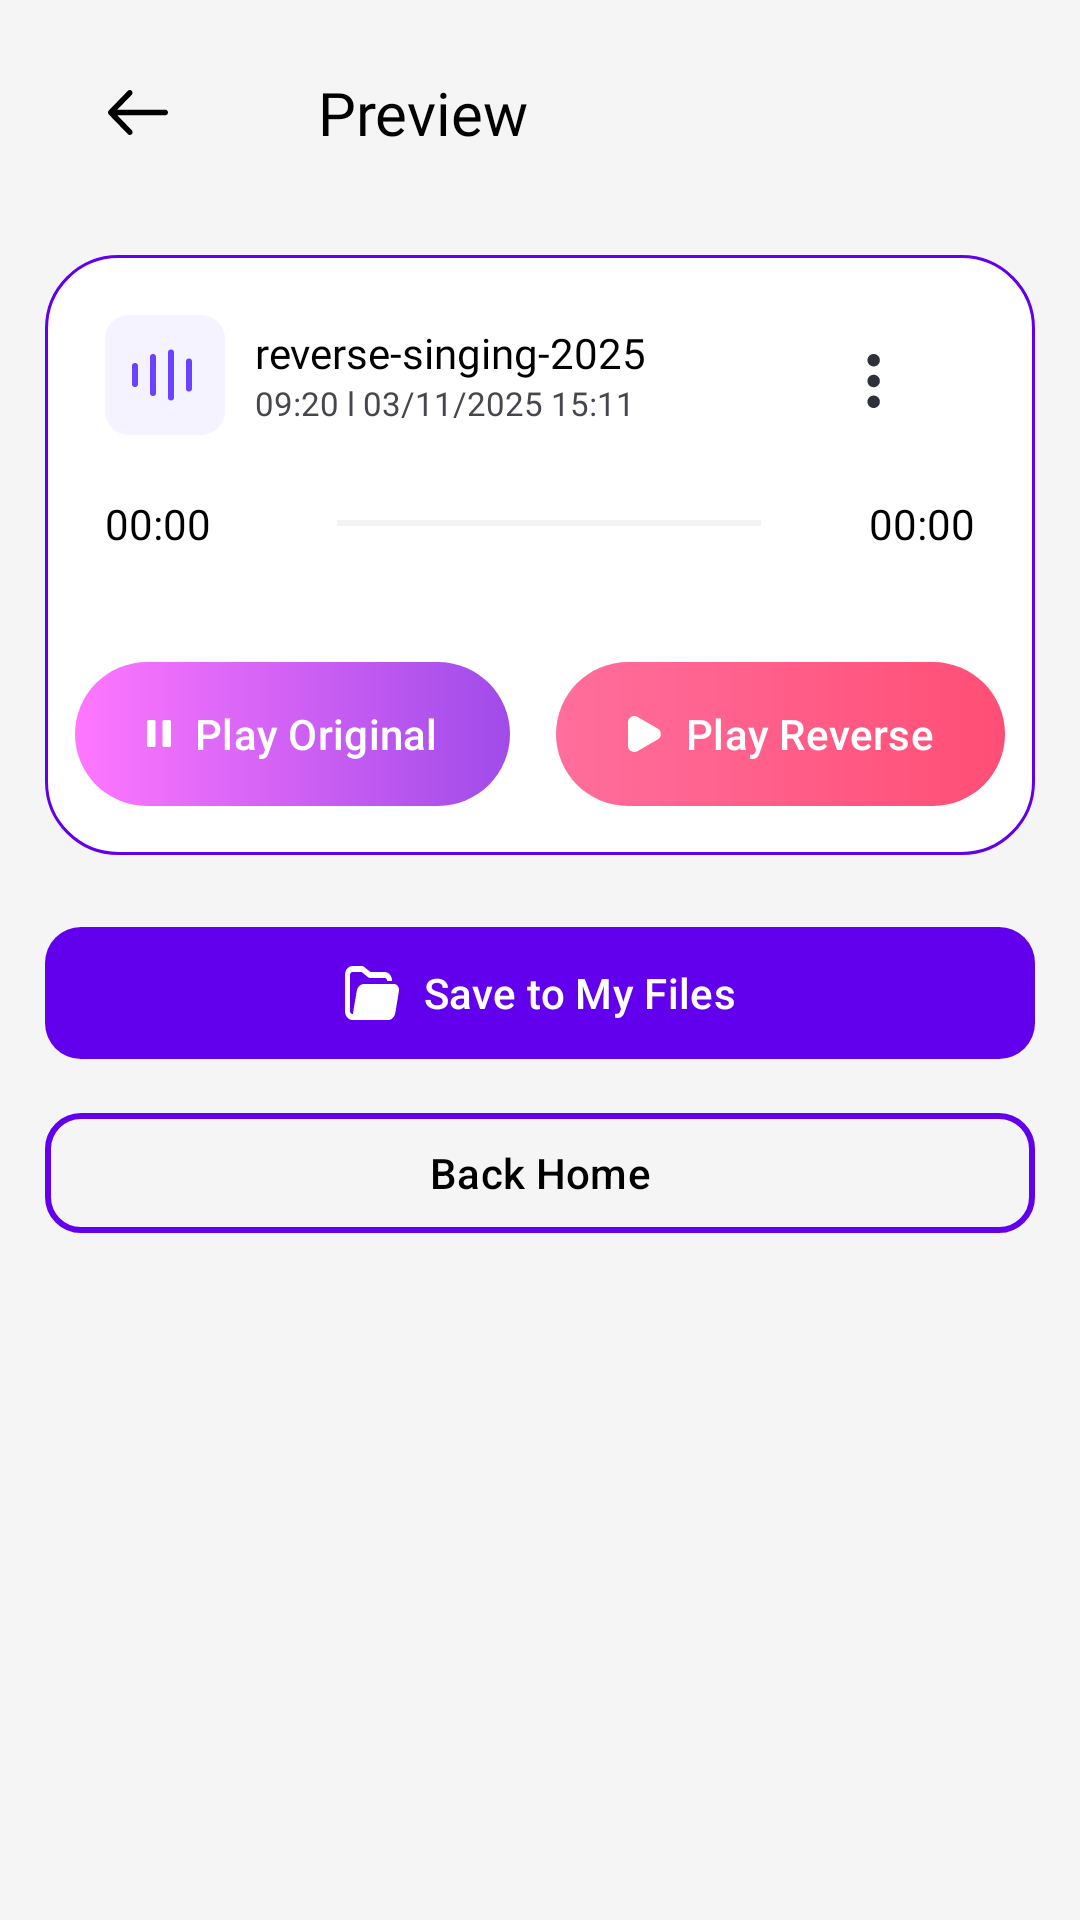

Icon click points for this 1080x1920 phone screenshot, format [x,y]:
back: [138,112]
kebabmenu: [873,381]
